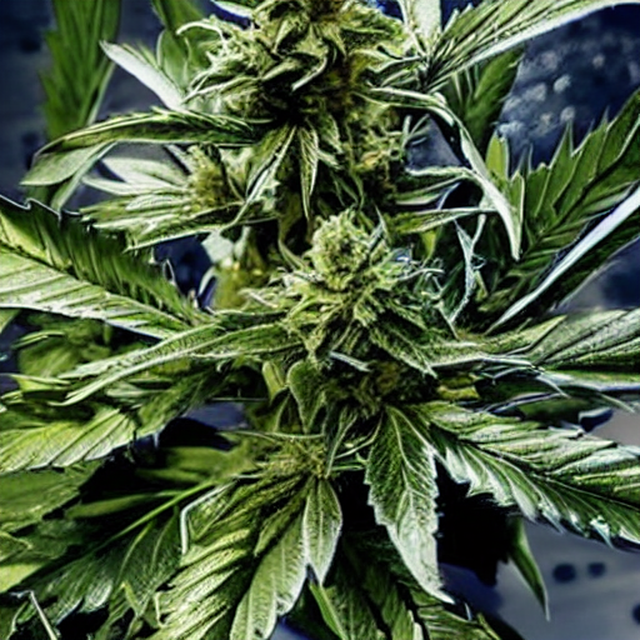Marijuana Joint: (112, 77, 568, 486)
